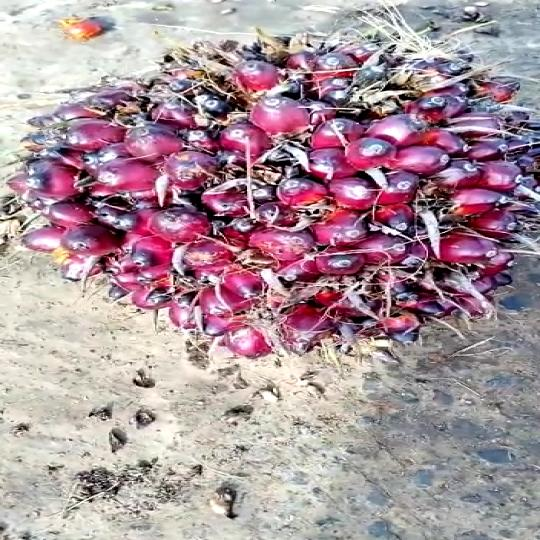masak: (6, 28, 535, 360)
